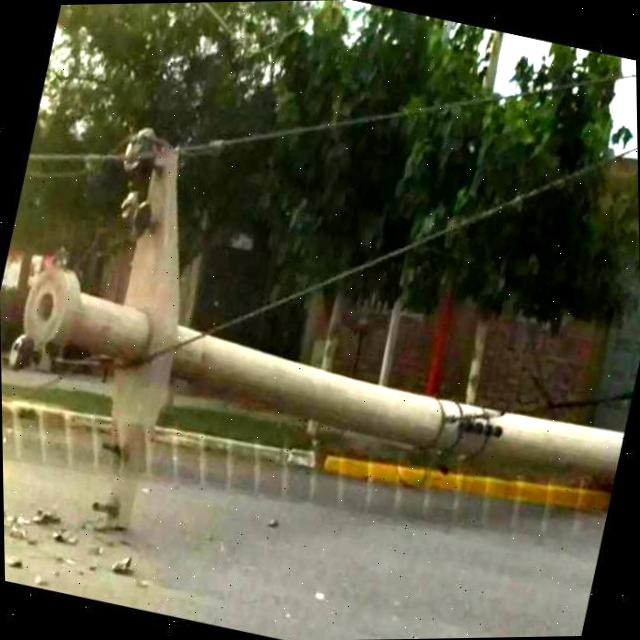Broken Pole: (11, 131, 621, 539)
